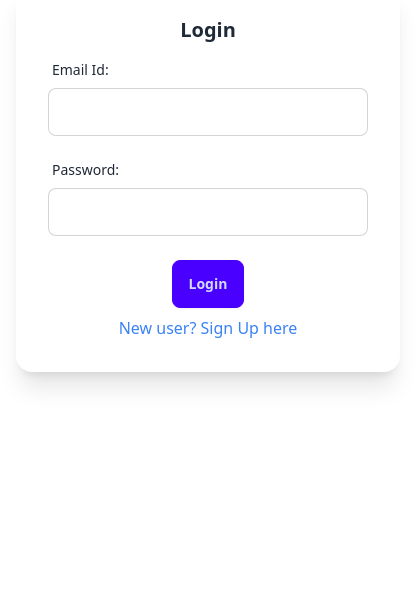
Scenario: Login › should toggle to Sign Up form when clicking the toggle link
Click the text "New user? Sign Up here" at [208, 328], box left=119, top=316, right=297, bottom=340
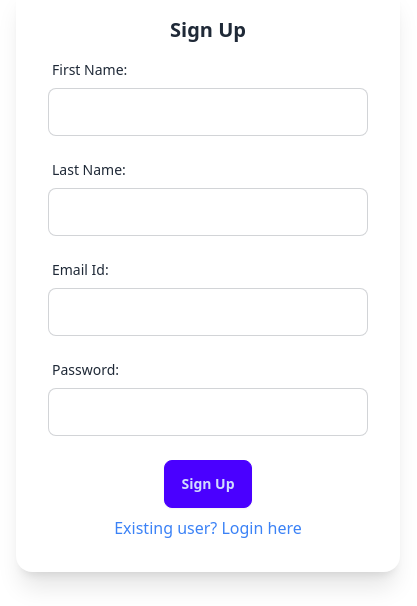
Check: the heading "Sign Up" is shown, box left=170, top=16, right=246, bottom=43
Check: the button "Sign Up" is shown, box left=164, top=460, right=252, bottom=508
